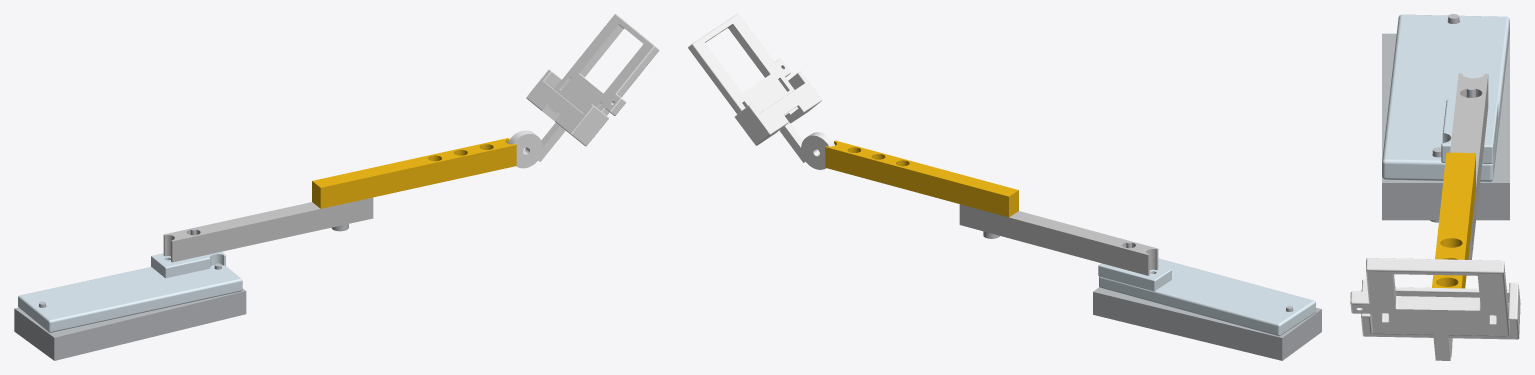
File: hardware.glb
3 renders of one model, left to right at view 1: azimuth 30°, elevation 25°; view 2: azimuth 150°, elevation 25°; view 3: azimuth 270°, elevation 25°, orthographic. The views are drawn at different scales.
Parts seen in each view (by area): view 1: upper_jaw_print, phone_cradle_print, lower_jaw, arm_tip_print, arm_root_print; view 2: upper_jaw_print, phone_cradle_print, lower_jaw, arm_tip_print, arm_root_print; view 3: upper_jaw_print, phone_cradle_print, lower_jaw, arm_tip_print, arm_root_print.
Boxes of the visible parts, left/top/right/bottom form: upper_jaw_print: left=18, top=251, right=242, bottom=332; phone_cradle_print: left=507, top=14, right=659, bottom=168; lower_jaw: left=14, top=288, right=246, bottom=360; arm_tip_print: left=312, top=138, right=516, bottom=208; arm_root_print: left=163, top=197, right=373, bottom=262; upper_jaw_print: left=1098, top=258, right=1315, bottom=336; phone_cradle_print: left=688, top=14, right=834, bottom=169; lower_jaw: left=1093, top=287, right=1321, bottom=360; arm_tip_print: left=825, top=140, right=1018, bottom=217; arm_root_print: left=959, top=204, right=1158, bottom=275; upper_jaw_print: left=1382, top=14, right=1509, bottom=181; phone_cradle_print: left=1350, top=258, right=1520, bottom=360; lower_jaw: left=1382, top=33, right=1509, bottom=220; arm_tip_print: left=1432, top=152, right=1475, bottom=288; arm_root_print: left=1450, top=73, right=1488, bottom=259.
Size of the model in its own units: 0.5997 by 0.1684 by 0.0915.
